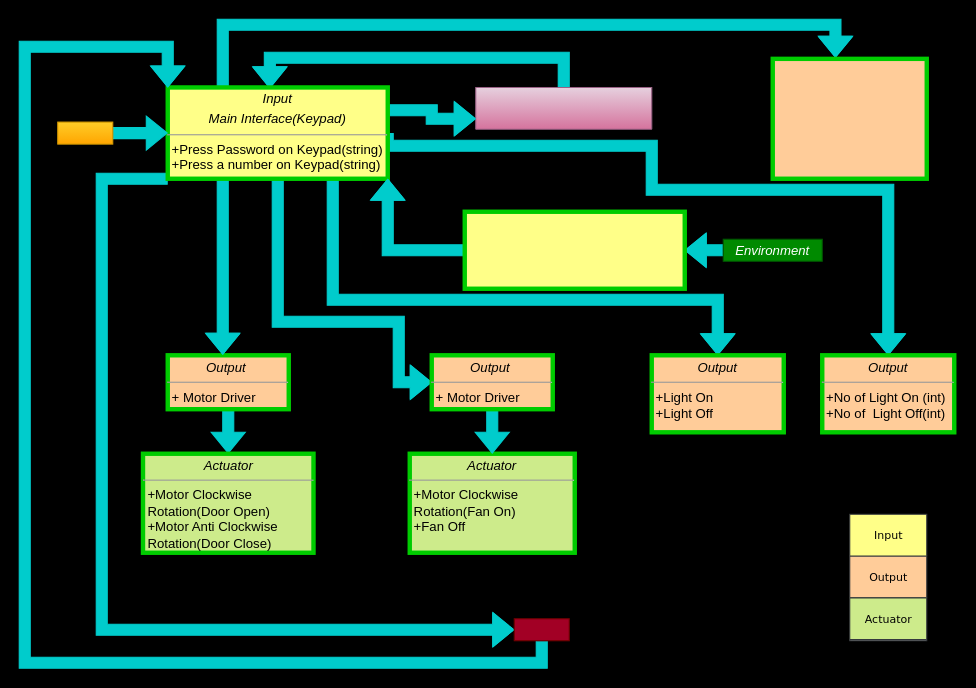
Image size: 976x688. Some labels were removed from this diagram. Here are the shapes that lost their labels. From the top down, the centre of each, then its label:
At pixel 563 107: "Password Check".
At pixel 849 118: "Output LCD +Input Char +Prints Character +Input String +Prints String".
At pixel 85 132: "User".
At pixel 574 249: "Input(Sensor) Room Temperature +Input ADC in Centigrade".
At pixel 541 629: "Restart".
